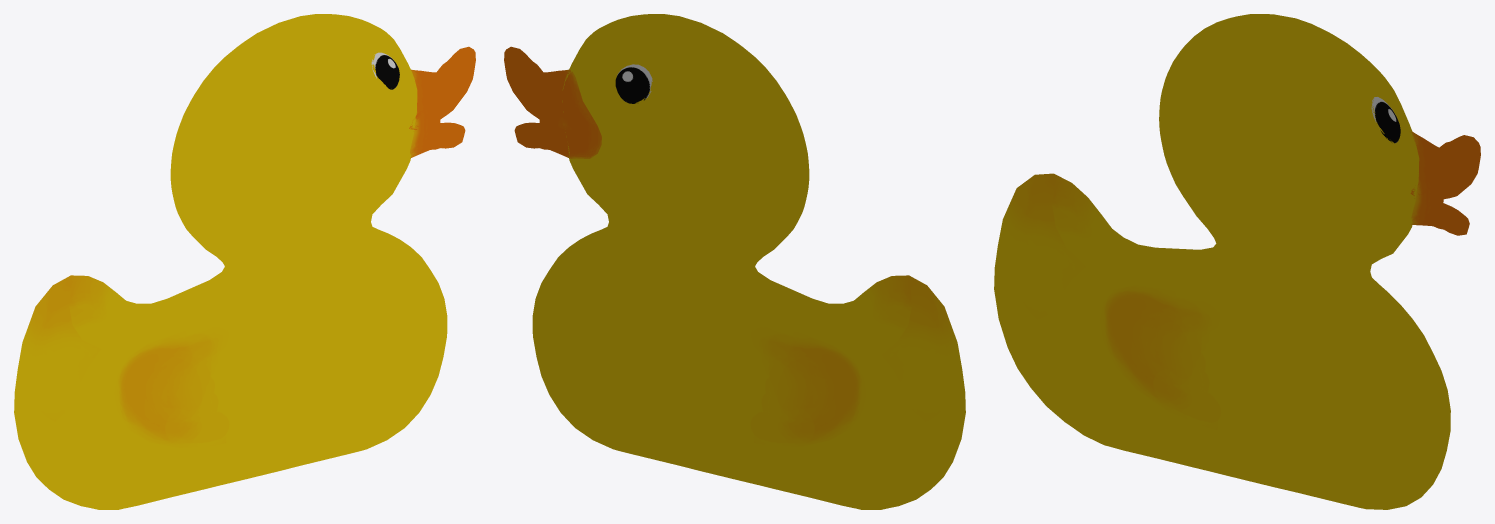
The model's file is Duck.glb.
3 views of the same model, side by side, from view 1: azimuth 30°, elevation 25°; view 2: azimuth 150°, elevation 25°; view 3: azimuth 330°, elevation 25° (orthographic). The views are drawn at different scales.
Parts seen in each view (by area): view 1: LOD3spShape; view 2: LOD3spShape; view 3: LOD3spShape.
Boxes of the visible parts, x1=… form: LOD3spShape: x1=14, y1=14, x2=475, y2=509; LOD3spShape: x1=504, y1=14, x2=965, y2=509; LOD3spShape: x1=994, y1=14, x2=1480, y2=509.
Size of the model in its own units: 0.0165 by 0.0154 by 0.
1 material, 1 textured.
